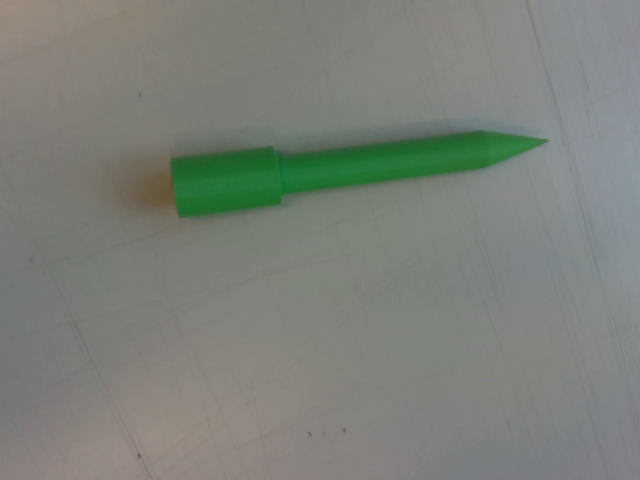Probe: (168, 120, 554, 224)
